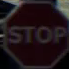Stop: (6, 2, 66, 63)
